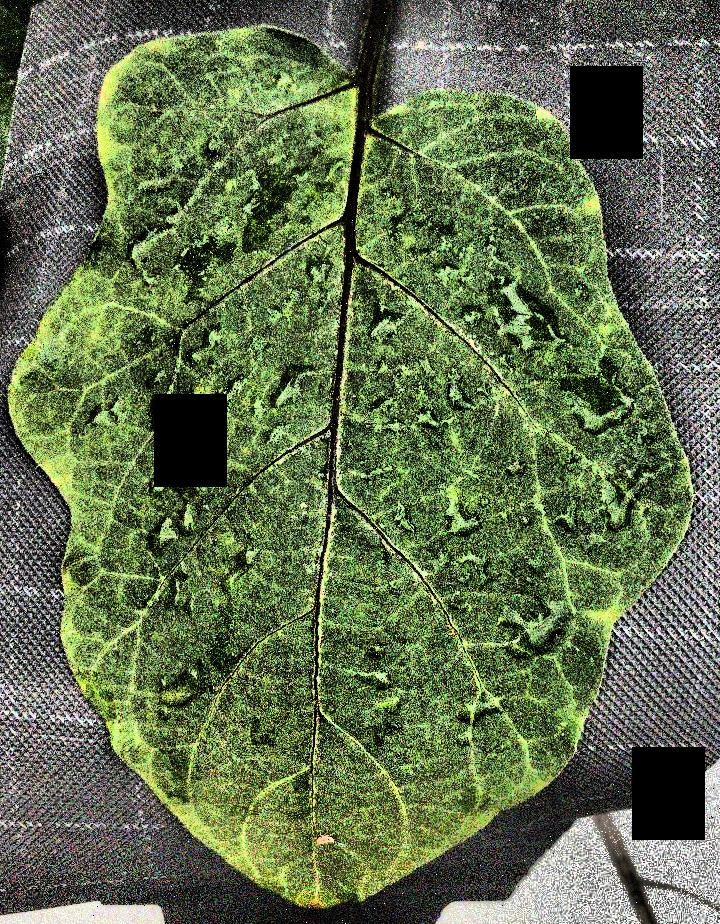Non-critical Stress: (1, 0, 720, 924)
